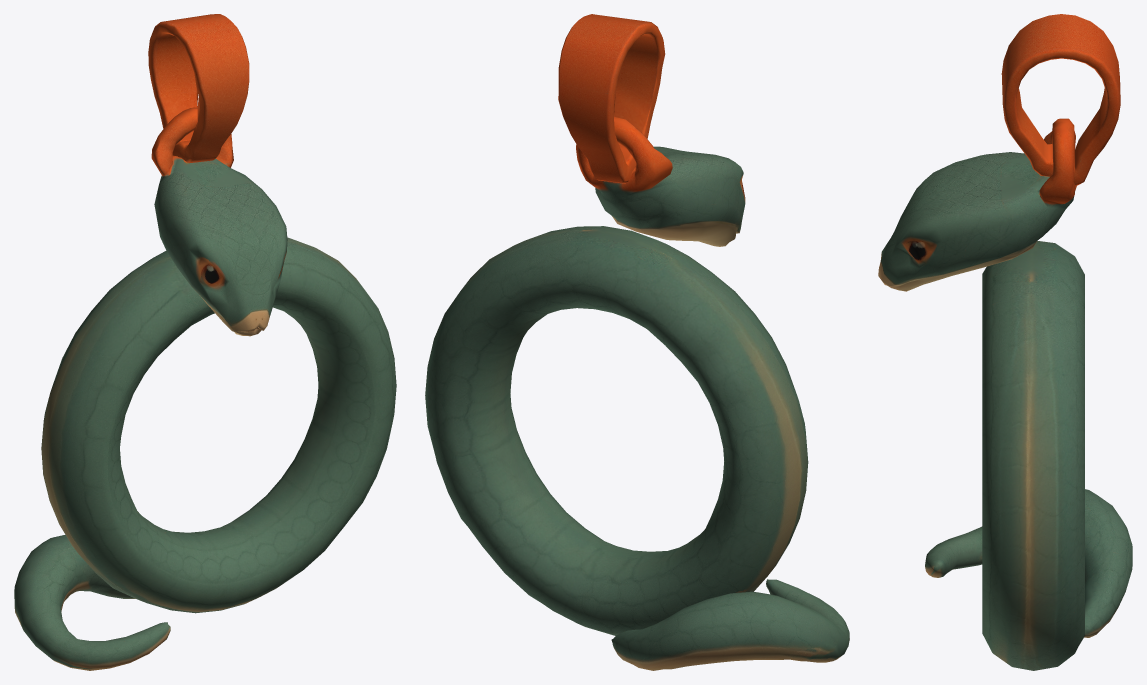
The model's file is serpents-coil-charm_refine.glb.
3 renders of one model, left to right at view 1: azimuth 30°, elevation 25°; view 2: azimuth 150°, elevation 25°; view 3: azimuth 270°, elevation 25°, orthographic. The views are drawn at different scales.
Bounding box in the file's own units: 0.6372 × 0.9517 × 0.3511.
Materials: 1 (1 with a texture image).
